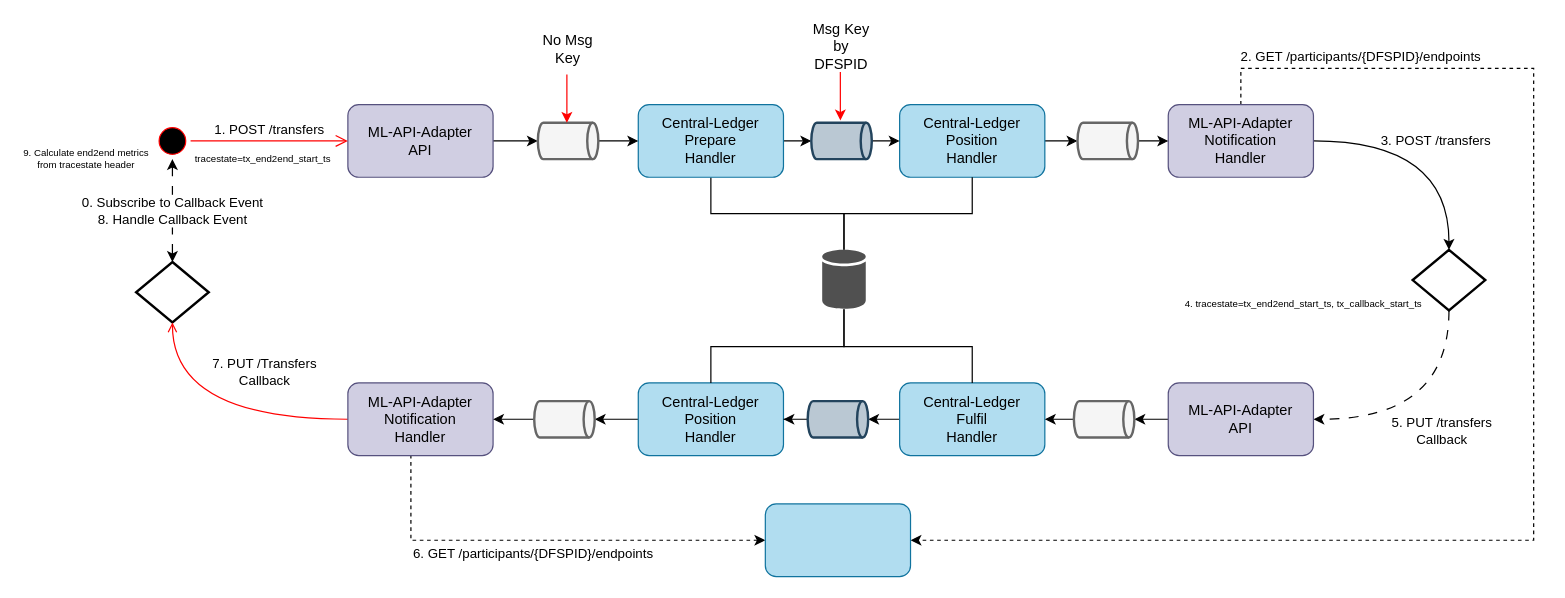
This 1565x598 diagram has some shape labels left out. The shapes that lost their labels are listed below. From the top down, each one's centre as x and y in pixels, then its label:
point (172, 140): K6
point (171, 291): Payer Sim
point (1448, 279): Payee Sim
point (837, 540): Central-Ledger API
